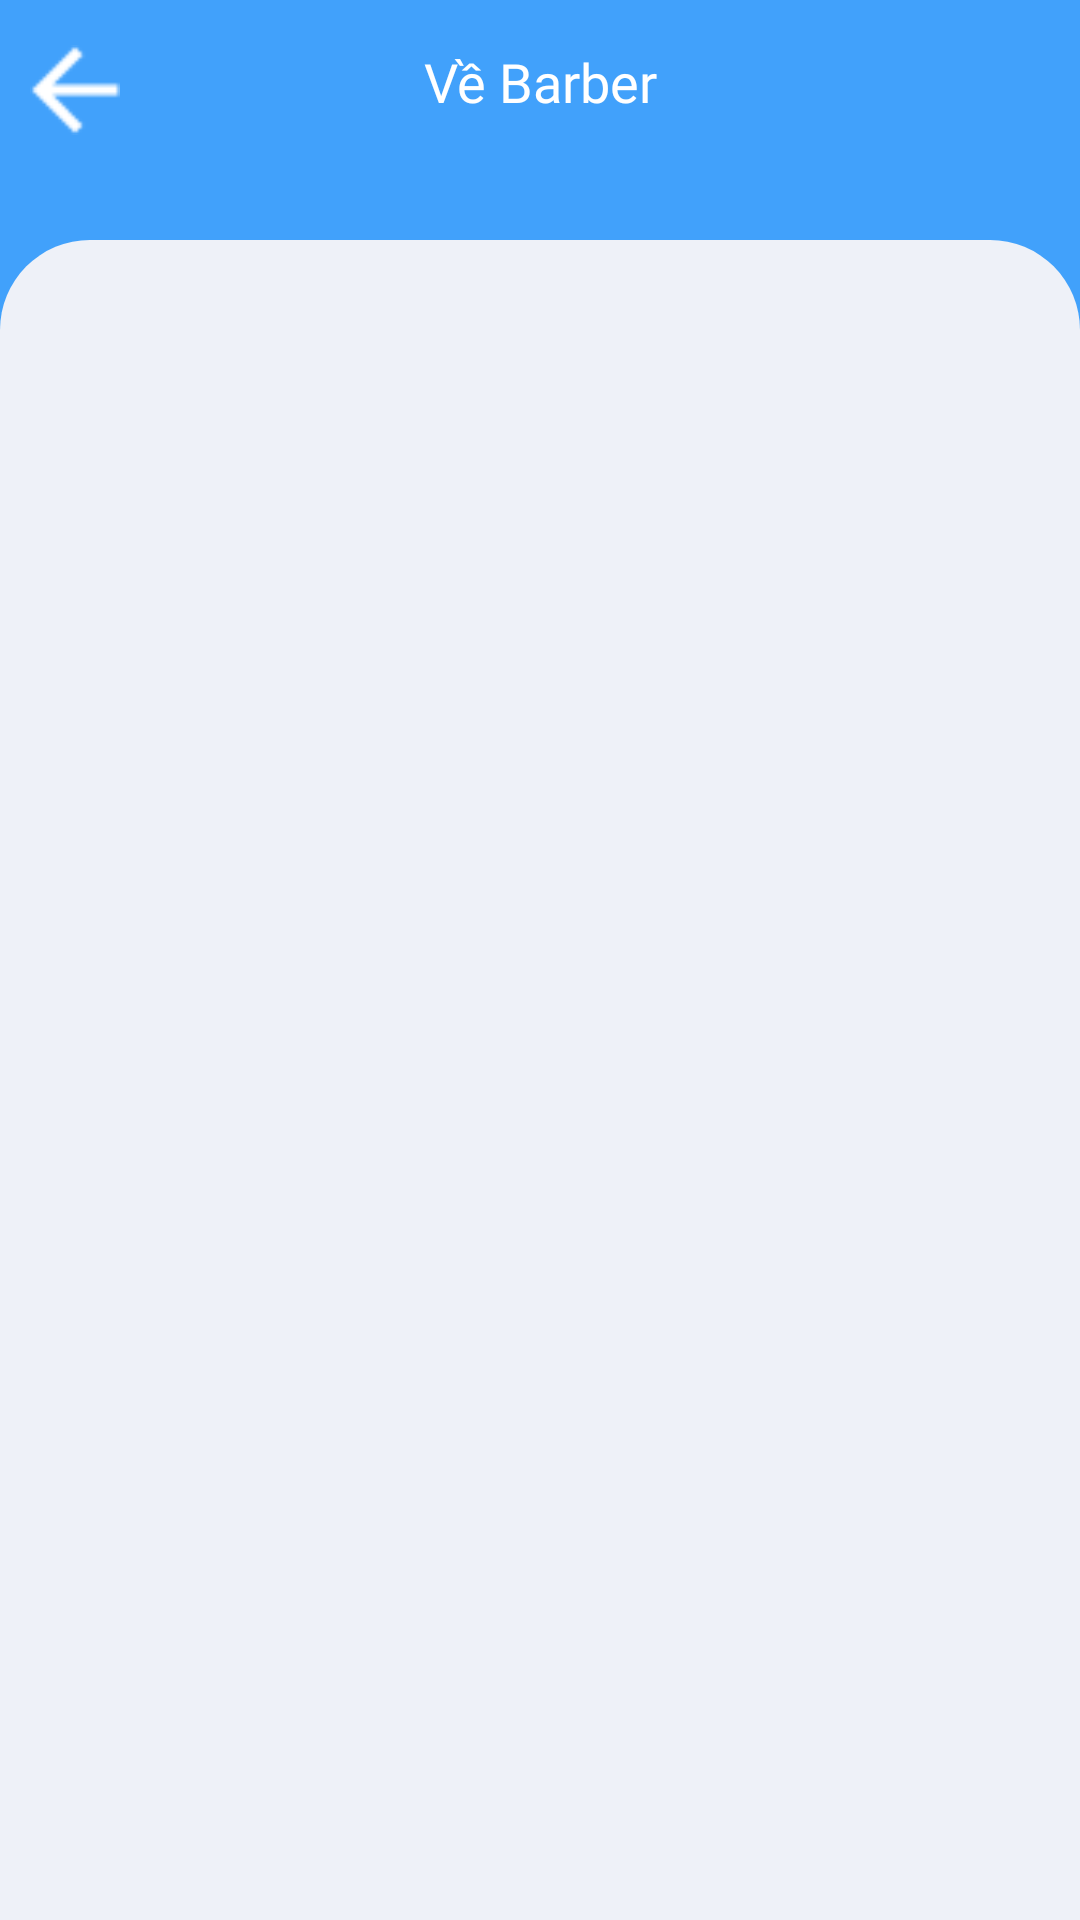

Named icons in this screenshot (1080*1920) and their bounding boxes, (x1, y1, x2, y2):
arrow back: (32, 47, 120, 133)
